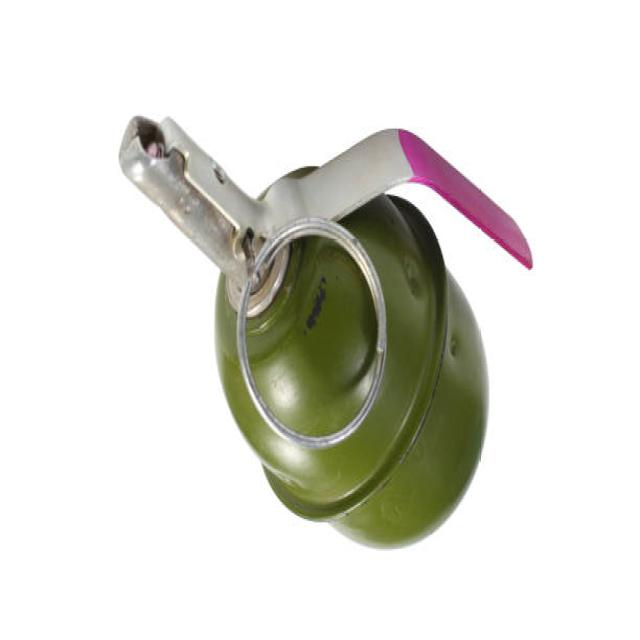grenade: (114, 91, 551, 595)
